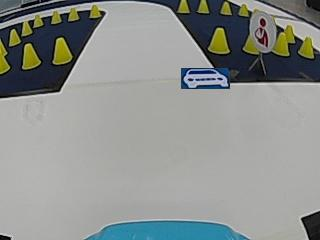cone: (207, 26, 230, 55), (51, 37, 72, 65), (22, 43, 41, 69), (273, 32, 289, 56), (0, 39, 10, 73), (299, 36, 314, 58), (9, 28, 21, 45), (88, 4, 101, 18), (177, 0, 190, 13), (219, 2, 232, 15), (50, 10, 62, 24), (68, 7, 79, 21), (197, 1, 209, 13), (33, 14, 44, 27), (22, 21, 32, 35), (238, 3, 248, 16)
patient: (253, 7, 275, 49)
